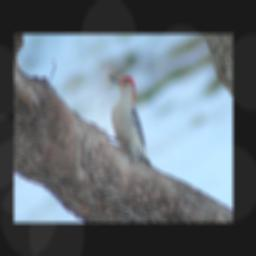Woodpecker: (106, 74, 153, 168)
